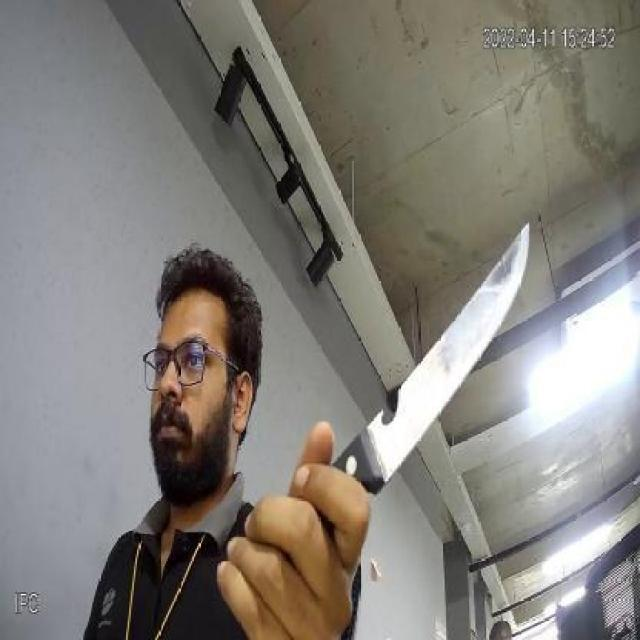-: (323, 223, 546, 514)
